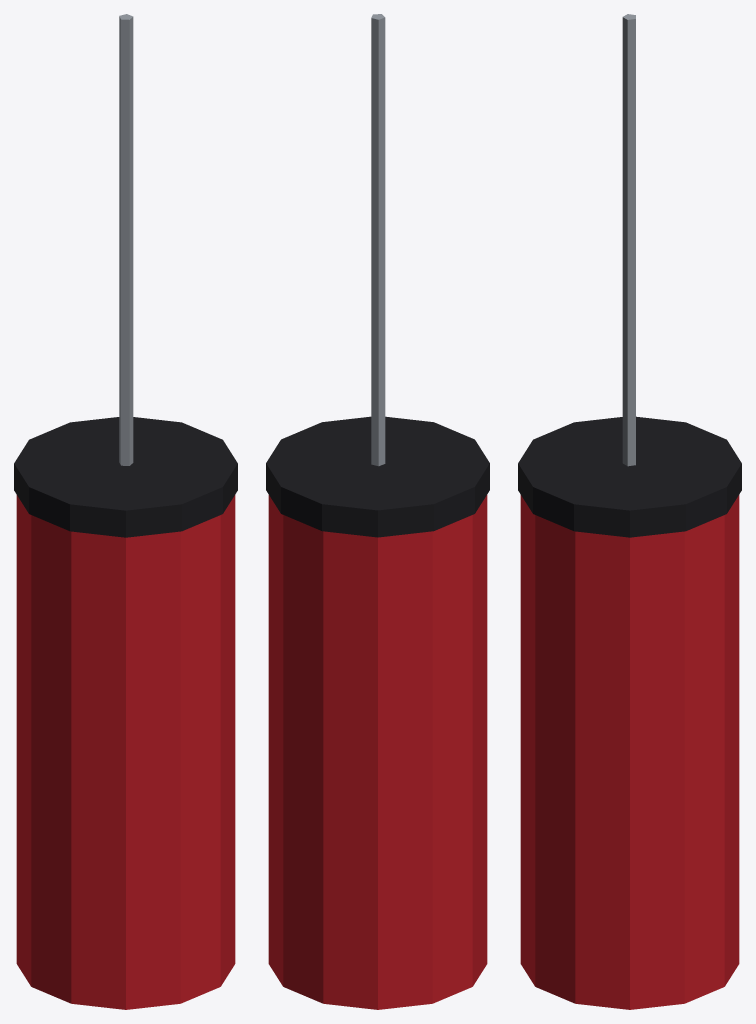
The model's file is gym_punching_bag.glb.
3 views of the same model, side by side, from view 1: azimuth 30°, elevation 25°; view 2: azimuth 150°, elevation 25°; view 3: azimuth 270°, elevation 25° (orthographic).
Parts seen in each view (by area): view 1: bag_gym_machine_red, bag_gym_black, chain_gym_steel; view 2: bag_gym_machine_red, bag_gym_black, chain_gym_steel; view 3: bag_gym_machine_red, bag_gym_black, chain_gym_steel.
Part boxes in pixels (x1,y1,x2,y2): bag_gym_machine_red: (16,495,235,1009); bag_gym_black: (14,417,237,537); chain_gym_steel: (119,14,133,465); bag_gym_machine_red: (268,495,487,1009); bag_gym_black: (266,416,489,537); chain_gym_steel: (371,14,385,466); bag_gym_machine_red: (520,495,739,1009); bag_gym_black: (518,416,741,537); chain_gym_steel: (622,14,635,466).
Bounding box in the file's own units: 0.45 × 2.1 × 0.45.
